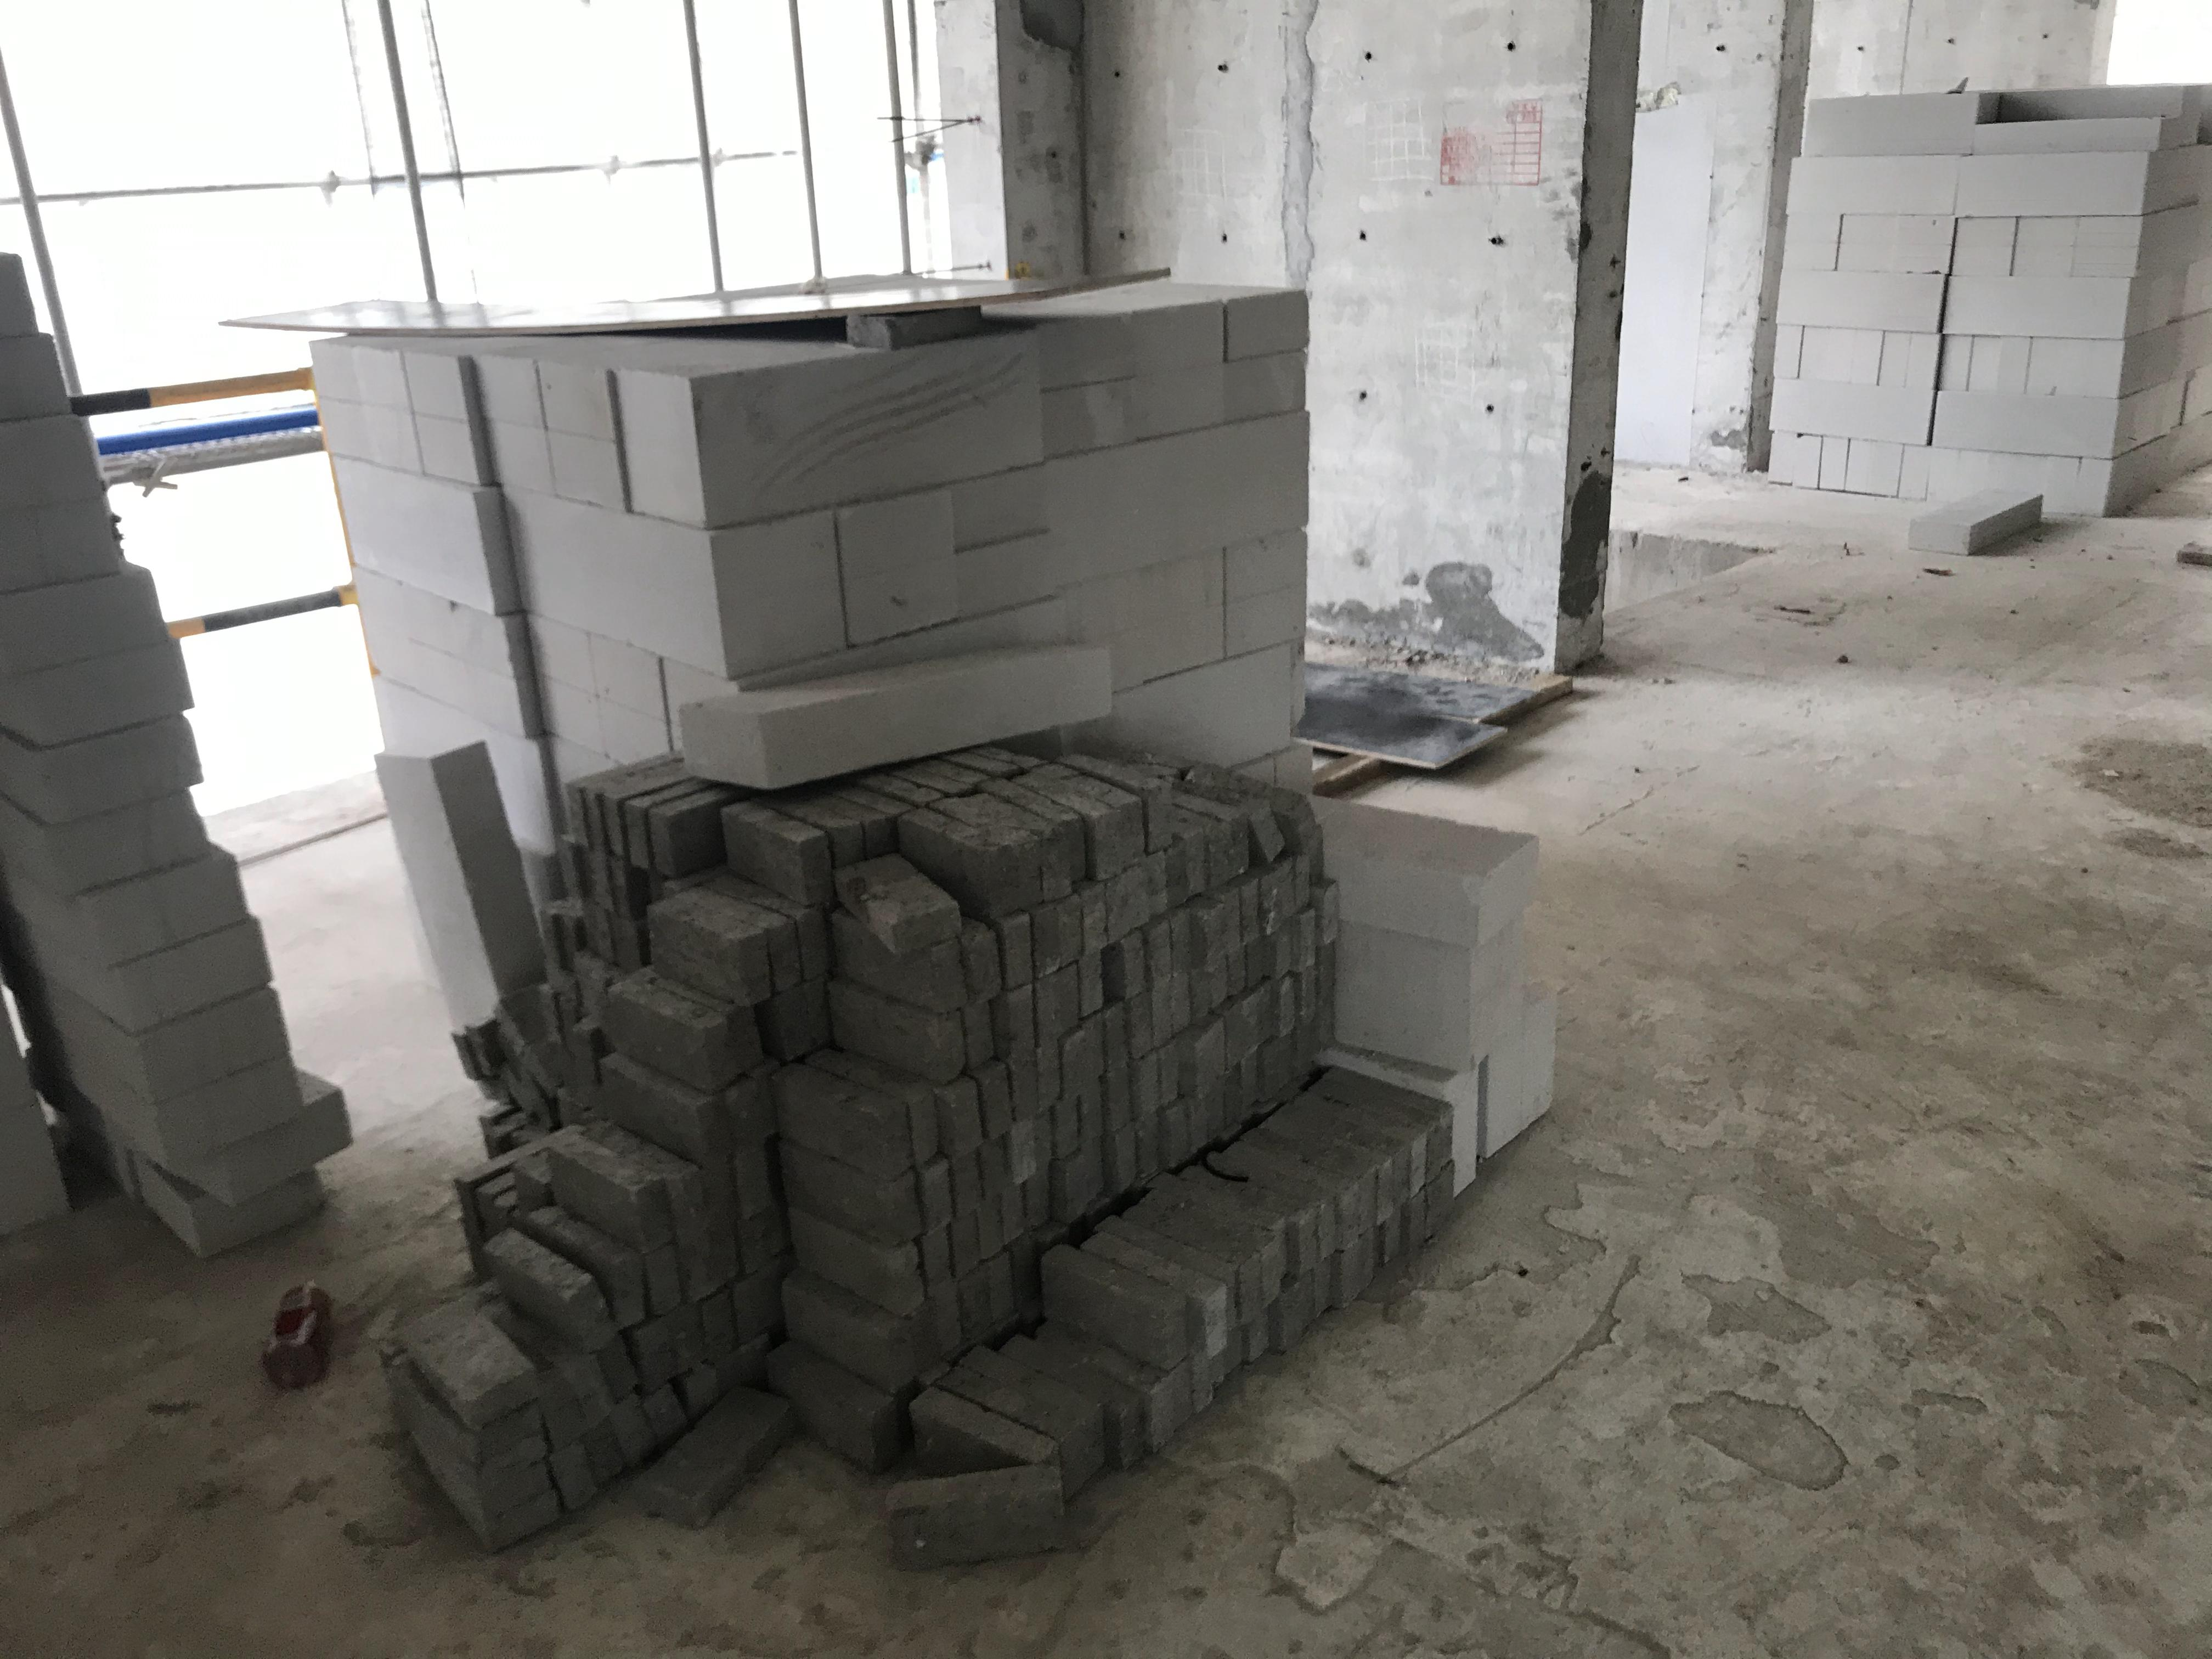brick: (317, 272, 1568, 1563), (0, 247, 329, 1270), (1761, 70, 2212, 519)
